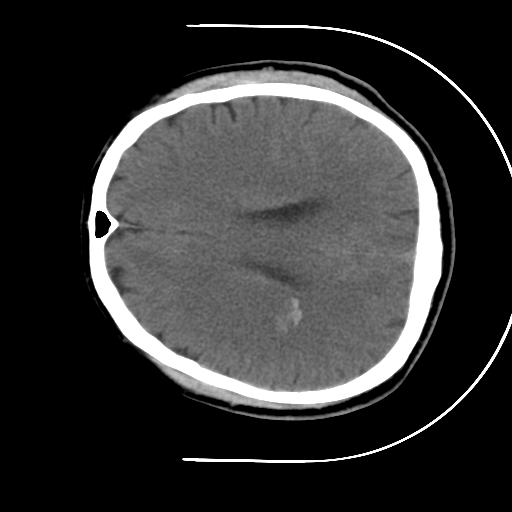a: (267, 286, 310, 339)
